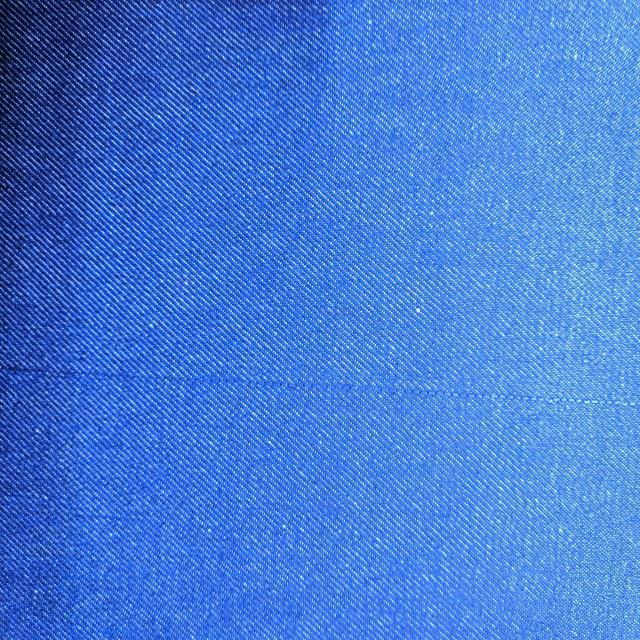Line: (12, 358, 625, 415)
